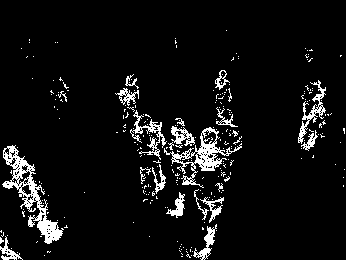person: (2, 145, 63, 246), (186, 130, 230, 256), (130, 114, 168, 203), (169, 117, 197, 220), (214, 106, 241, 187), (301, 83, 325, 161), (118, 75, 141, 132), (215, 69, 235, 121)
